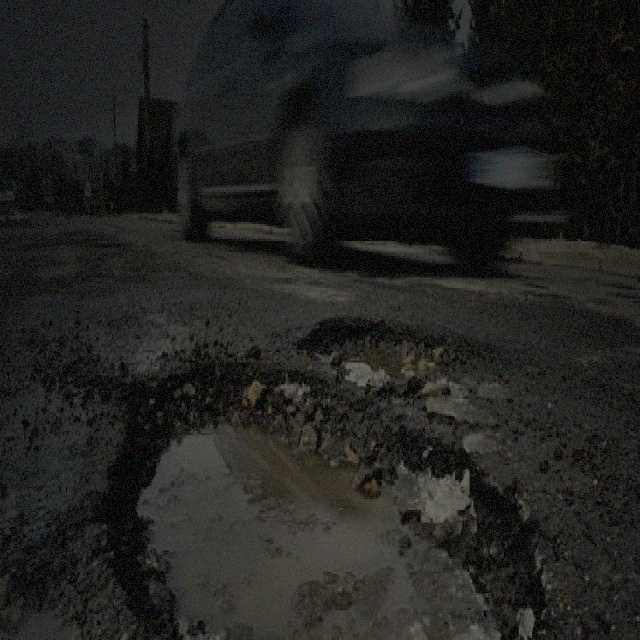pothole: (97, 348, 557, 638), (296, 311, 506, 399)
